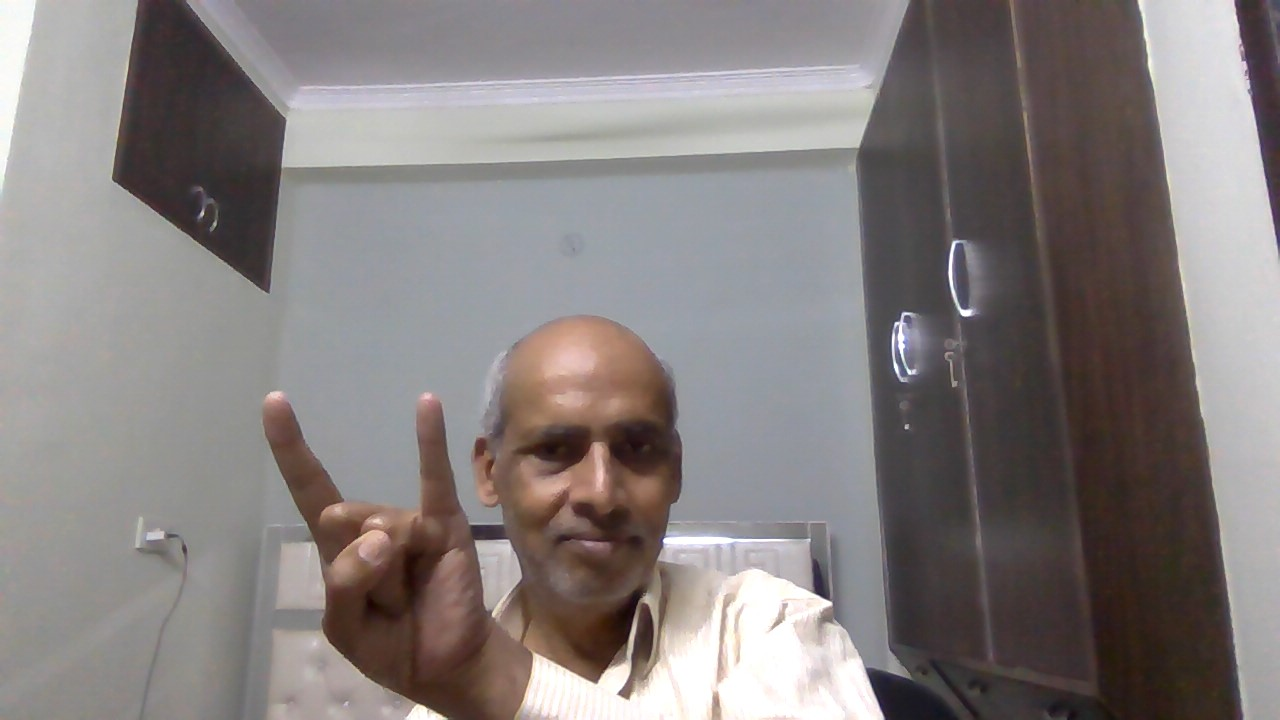Select All: (248, 377, 503, 703)
